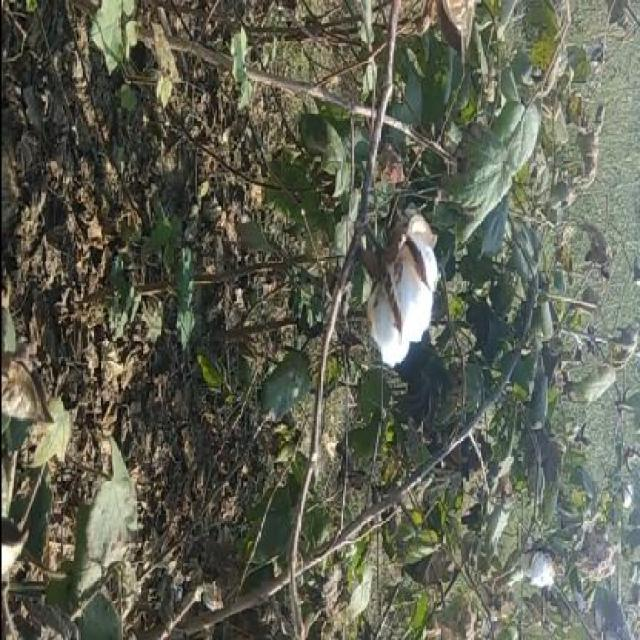cotton_ready: (332, 194, 436, 388)
